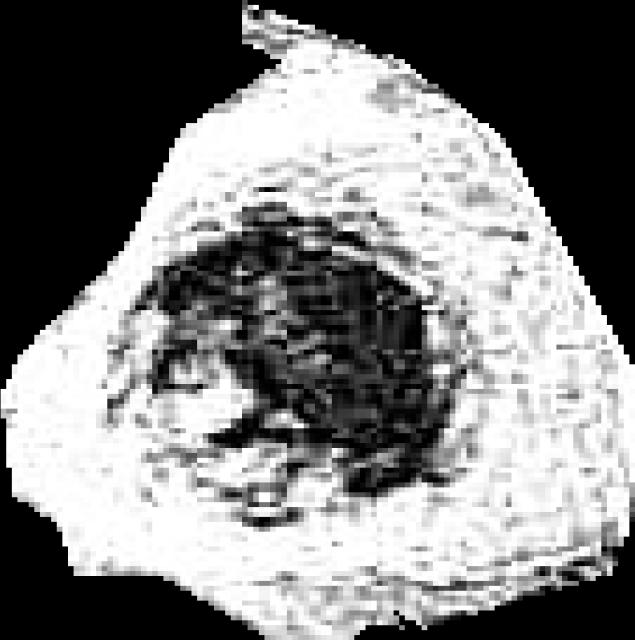tumor_good_chance: (1, 0, 635, 640)
